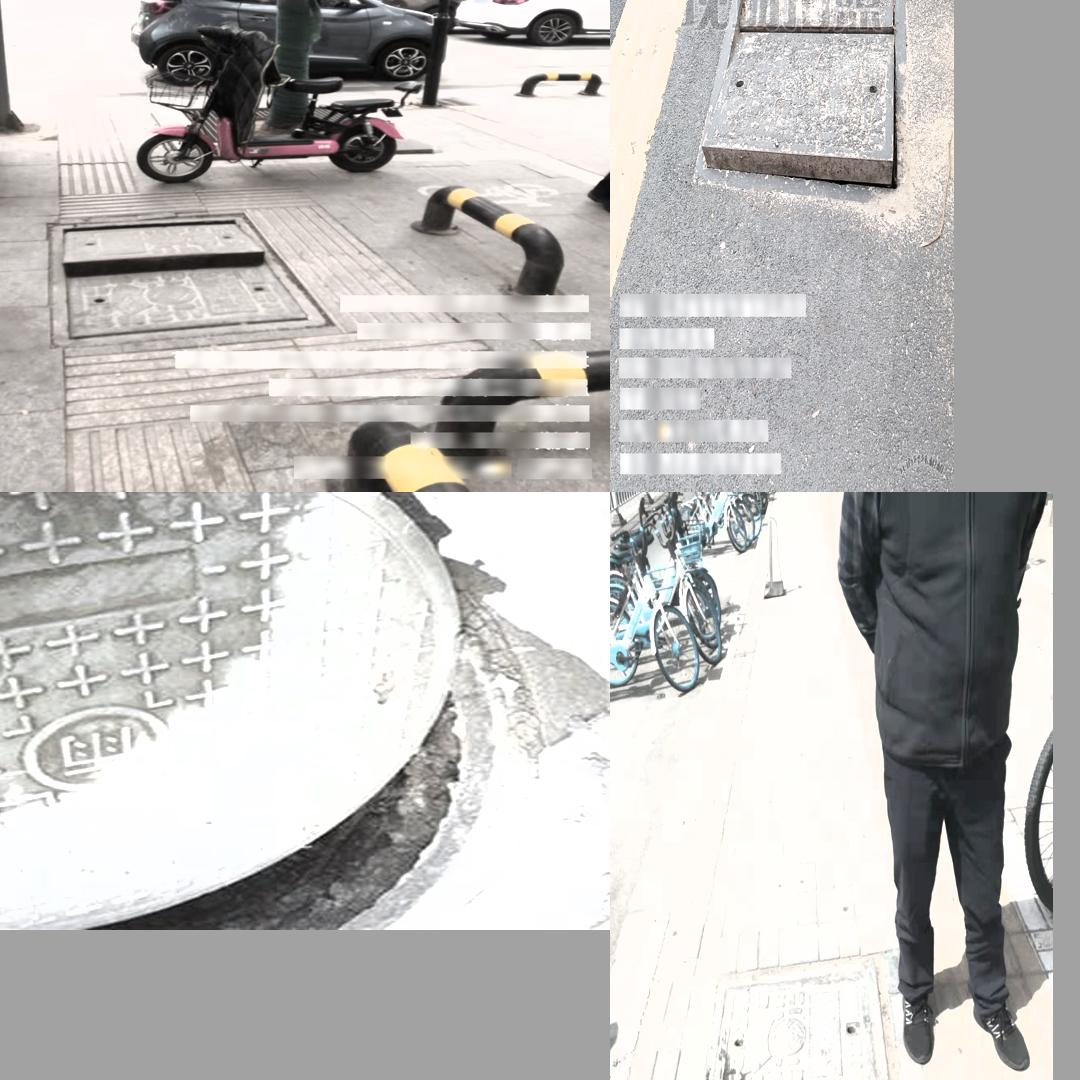uncovered: (0, 497, 555, 924), (690, 0, 912, 209), (48, 215, 336, 349), (663, 964, 917, 1080)
